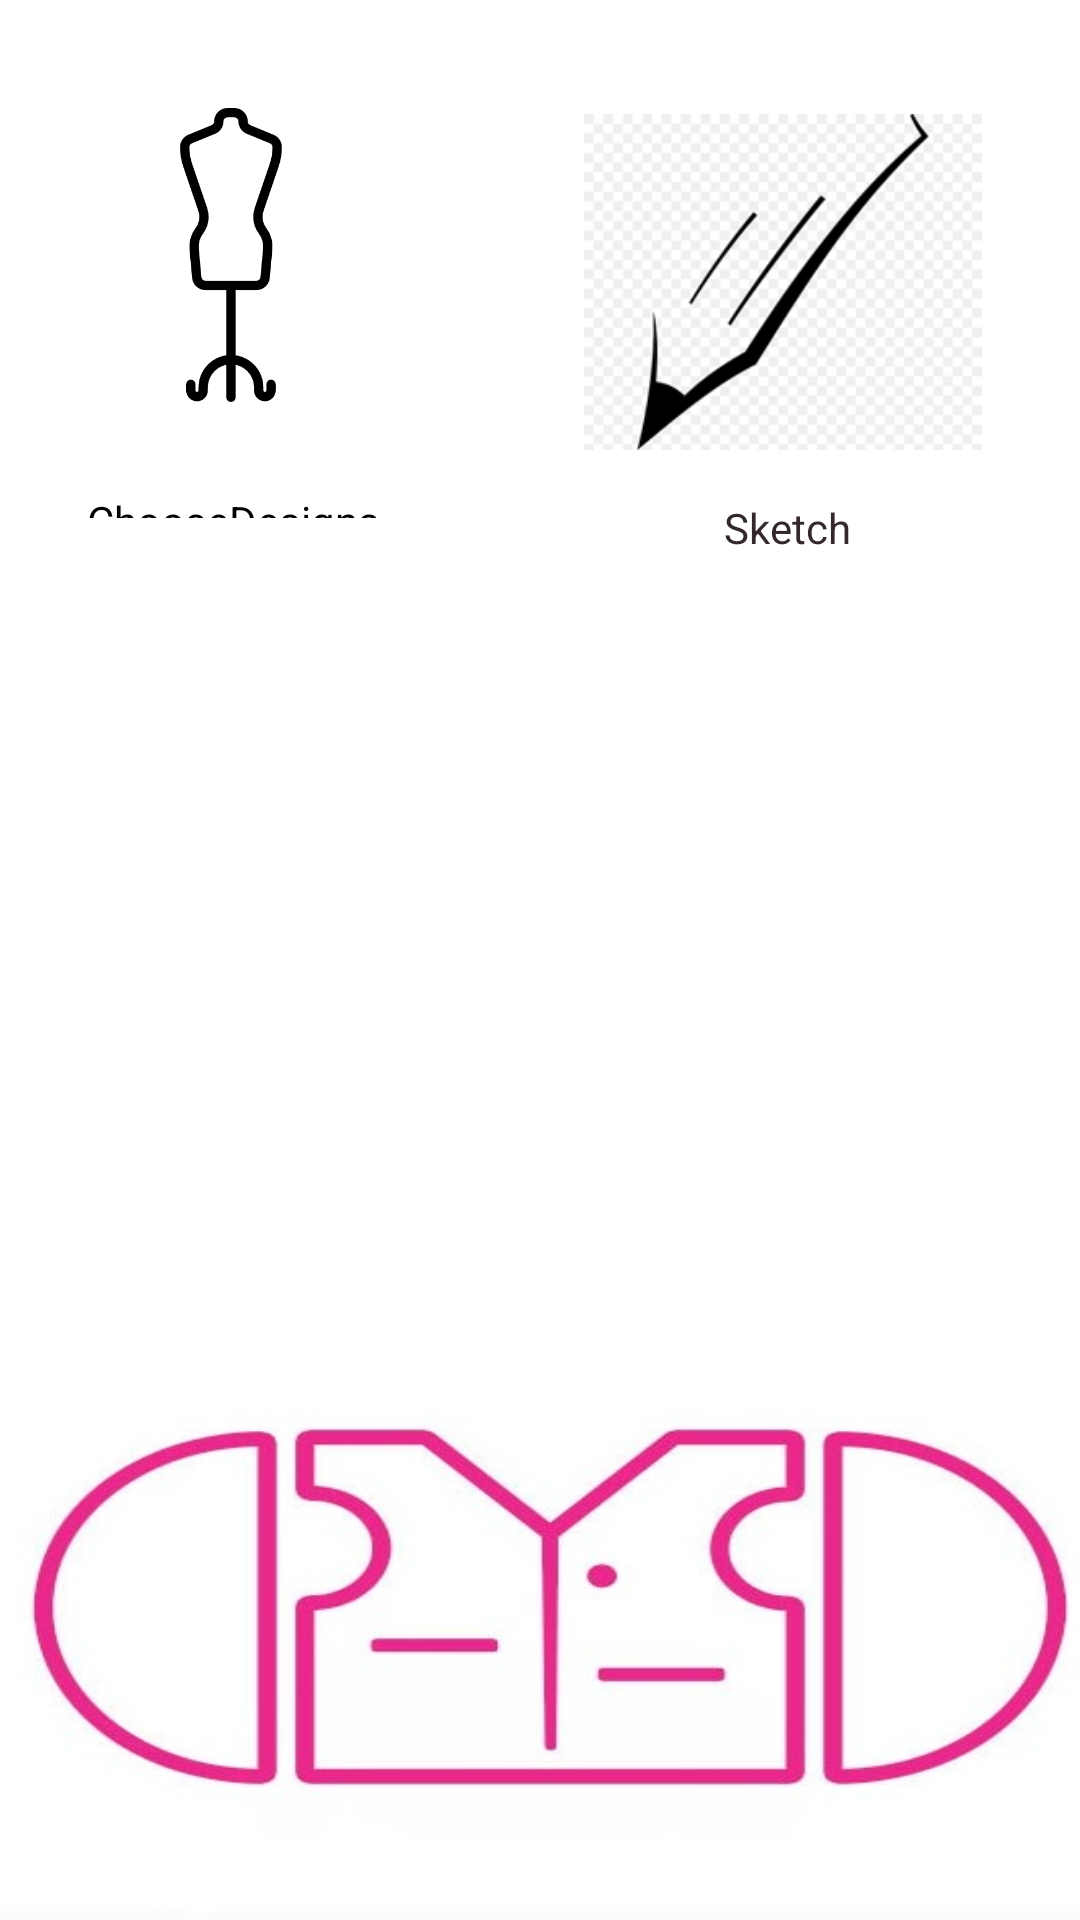

Named icons in this screenshot (1080px x 1920px) and their bounding boxes, (x1, y1, x2, y2):
mannequin: (180, 108, 282, 402)
